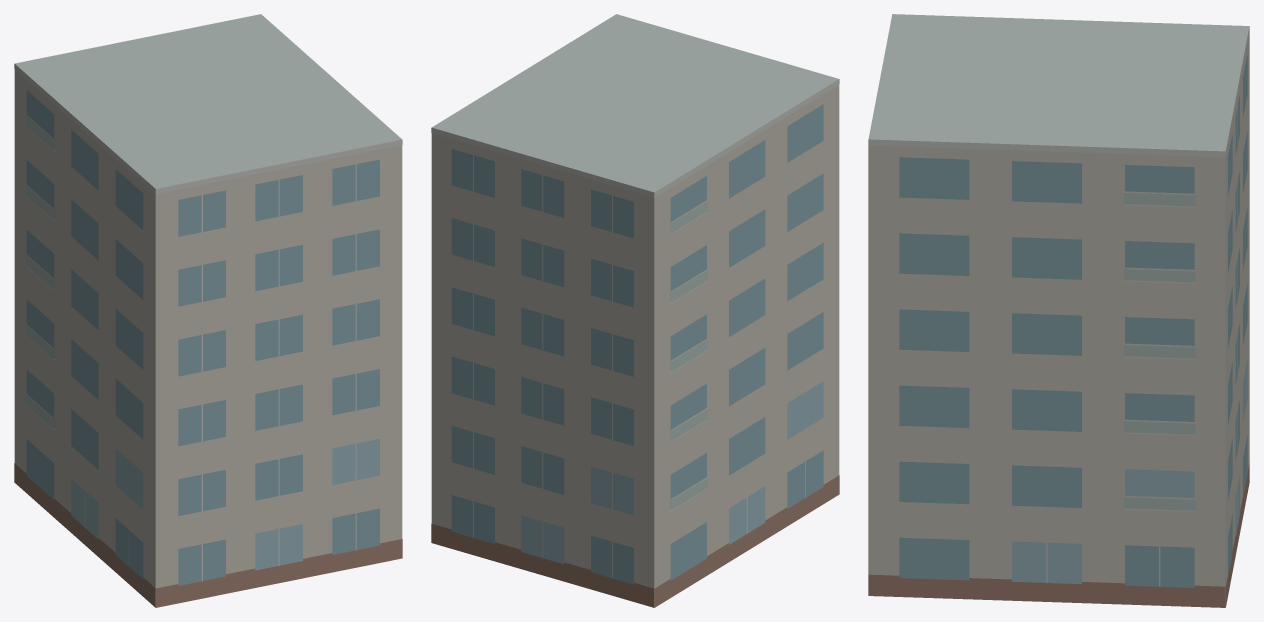
File: survey-upis-32659709.glb
3 views of the same model, side by side, from view 1: azimuth 30°, elevation 25°; view 2: azimuth 150°, elevation 25°; view 3: azimuth 270°, elevation 25° (orthographic). The views are drawn at different scales.
Visible parts, largest first — view 1: survey-upis-32659709.tmp; view 2: survey-upis-32659709.tmp; view 3: survey-upis-32659709.tmp.
Boxes of the visible parts, left/top/right/bottom form: survey-upis-32659709.tmp: left=14, top=14, right=402, bottom=607; survey-upis-32659709.tmp: left=431, top=14, right=839, bottom=607; survey-upis-32659709.tmp: left=868, top=14, right=1249, bottom=607.
Size of the model in its own units: 11.95 by 18.5 by 14.01.
